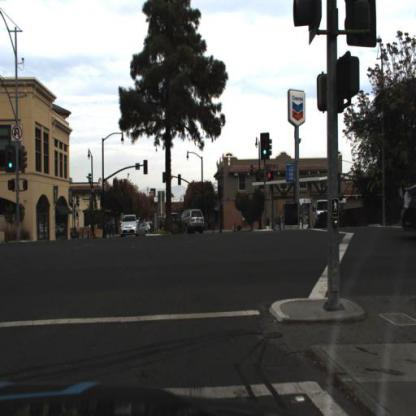car: (313, 194, 335, 230), (179, 207, 207, 234), (119, 213, 141, 239)
trafficLight-Green: (260, 132, 273, 162), (8, 147, 16, 173)
